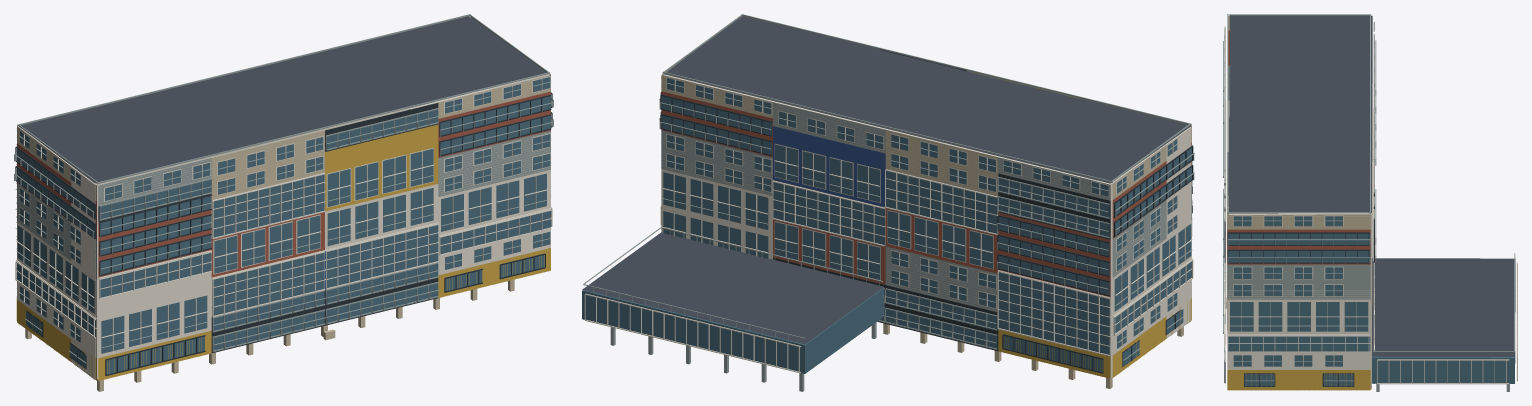
The model's file is silodam.glb.
3 renders of one model, left to right at view 1: azimuth 30°, elevation 25°; view 2: azimuth 150°, elevation 25°; view 3: azimuth 270°, elevation 25°, orthographic. The views are drawn at different scales.
Parts seen in each view (by area): view 1: silodam; view 2: silodam; view 3: silodam.
Boxes of the visible parts, box(x1,y1,x2,y2) form: silodam: box(14, 14, 553, 391); silodam: box(582, 14, 1194, 391); silodam: box(1223, 14, 1517, 391).
Size of the model in its own units: 66.58 by 29.33 by 41.12.
